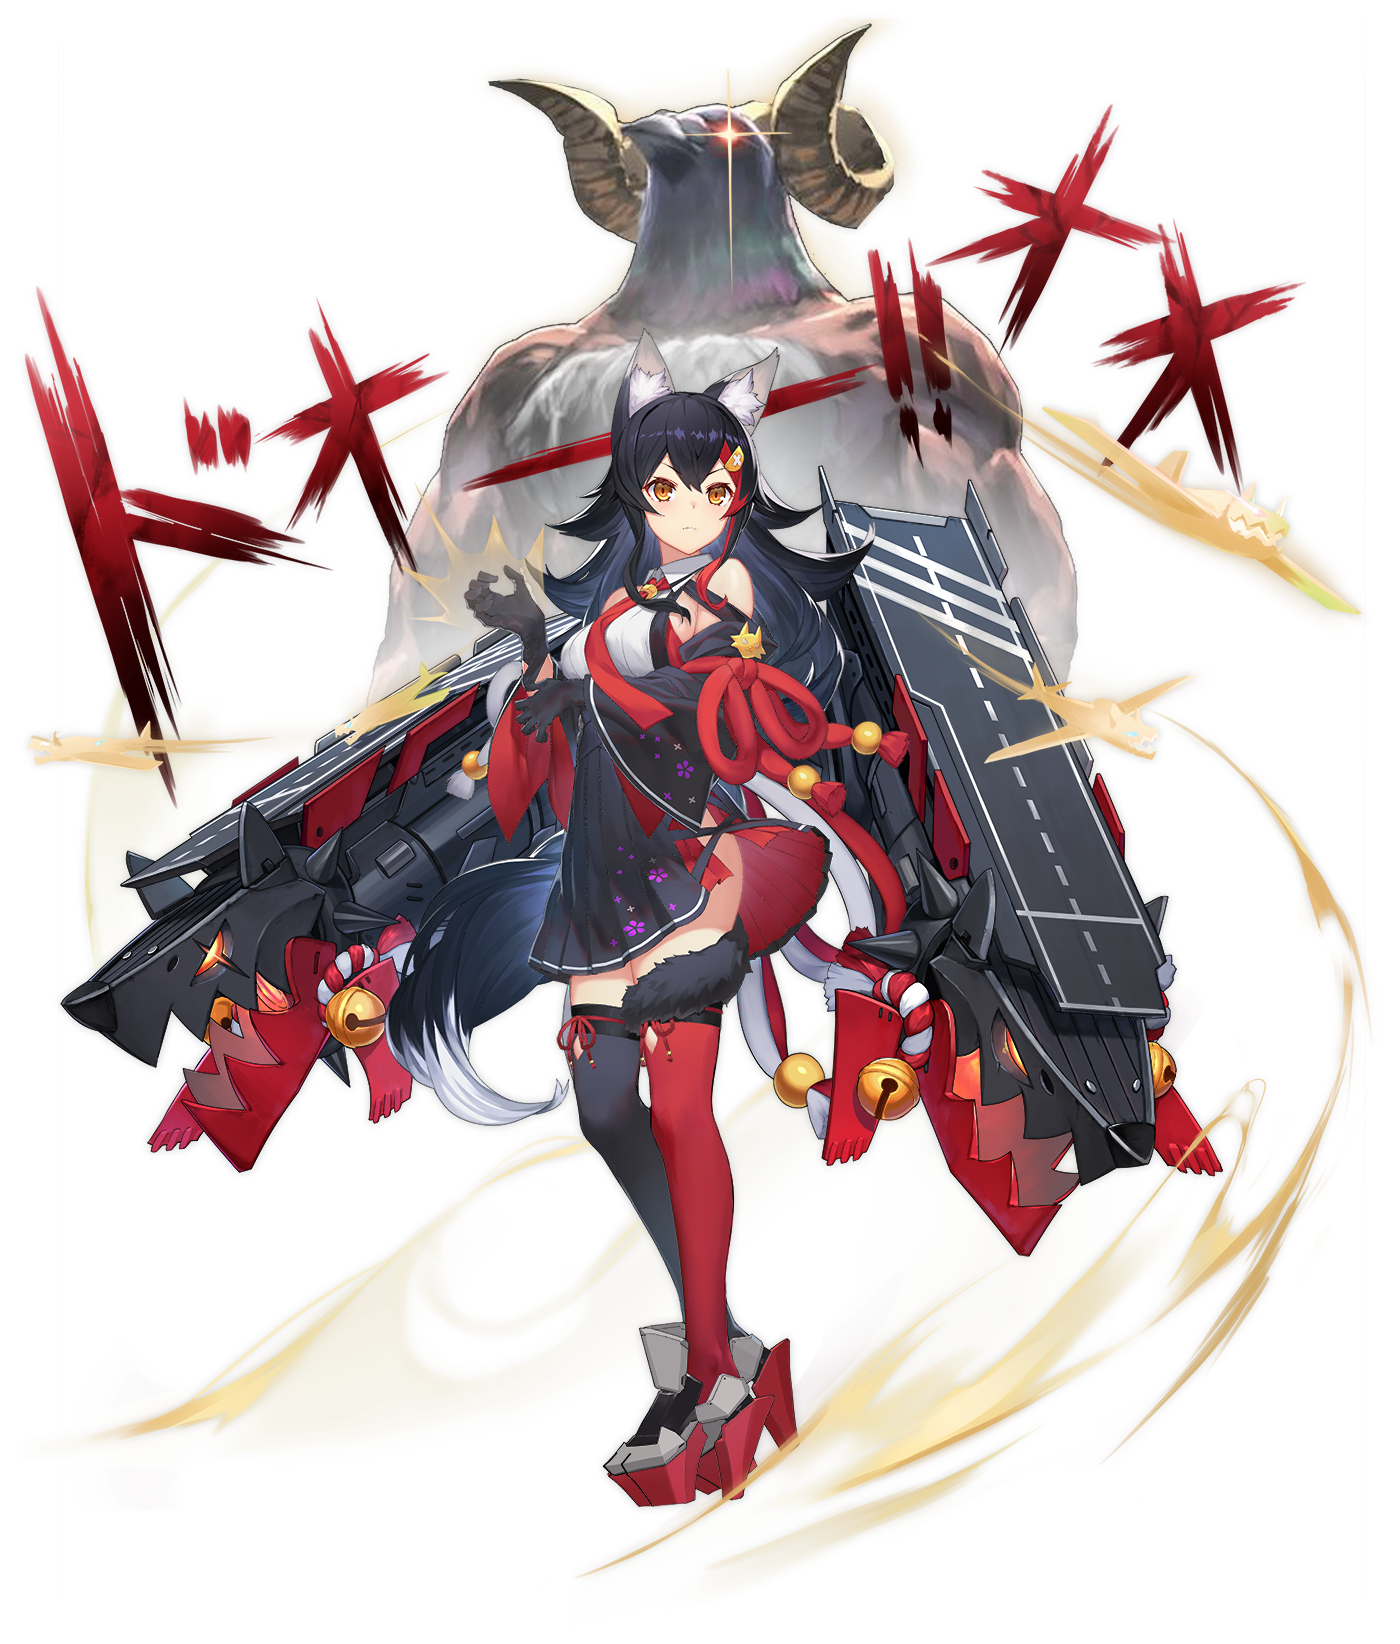person: (371, 388, 927, 1227)
